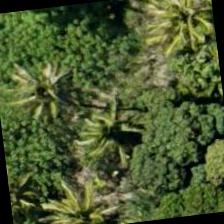Kelapa_Sawit: (56, 80, 156, 180), (0, 39, 99, 140), (4, 148, 74, 223), (142, 0, 219, 64), (23, 177, 119, 223)
